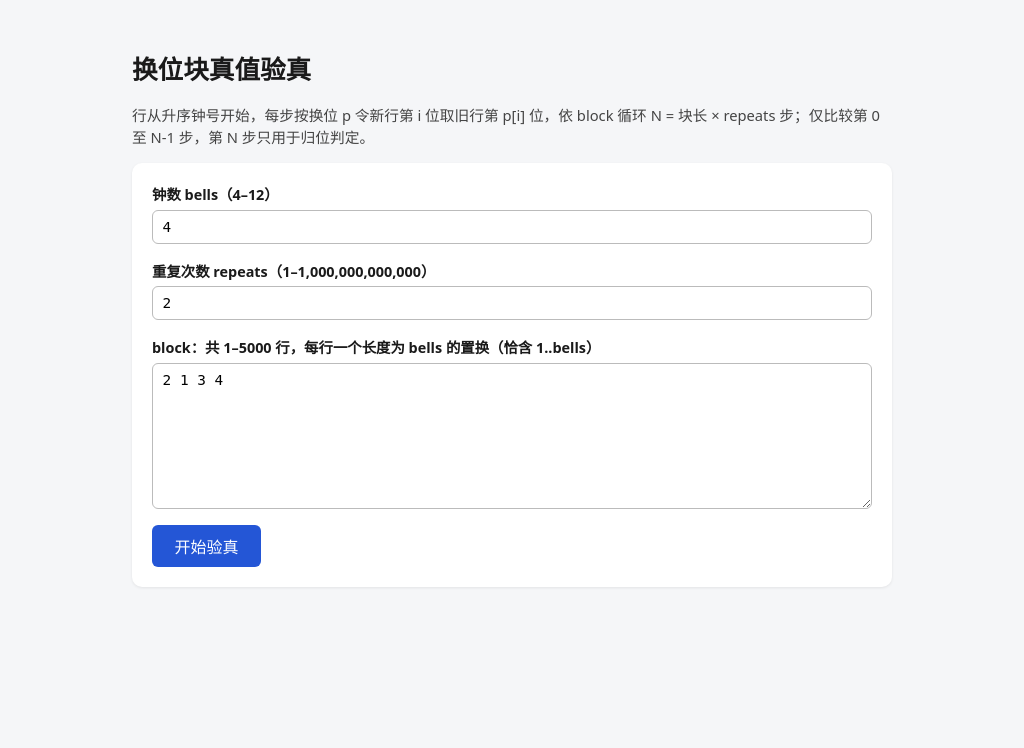
Test: App verification flow › a 422 API error clears the previous result and shows the located field
The width and height of the screenshot is (1024, 748).
Click the button "开始验真": (206, 546) [152, 525, 261, 566]
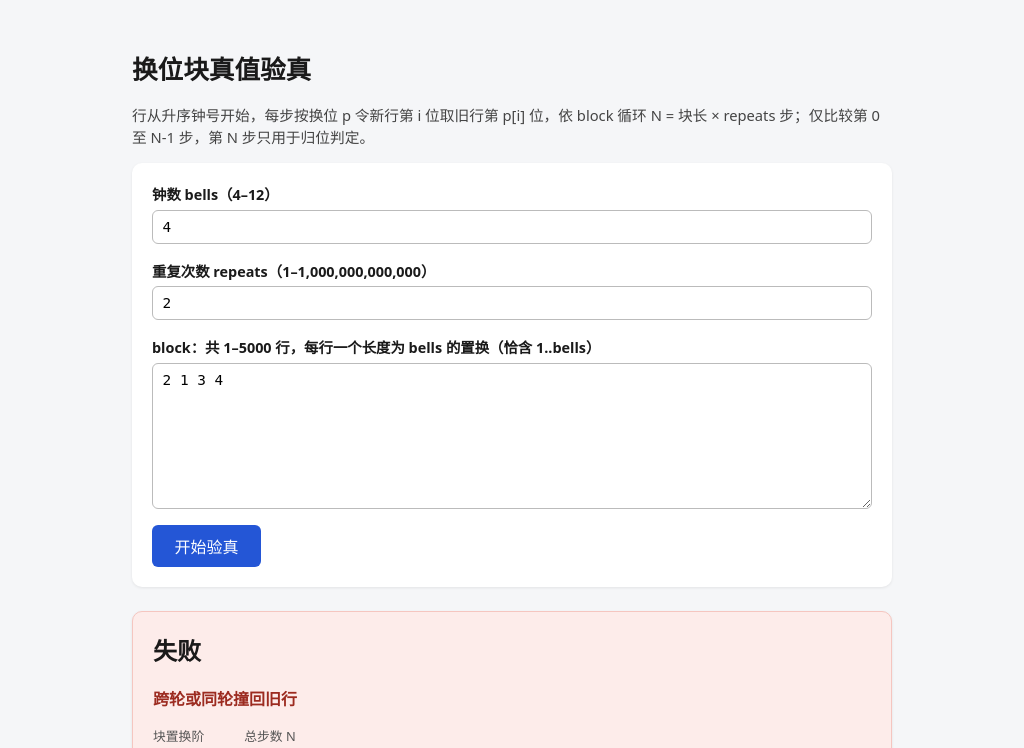
Click the button "开始验真": (206, 546) [152, 525, 261, 566]
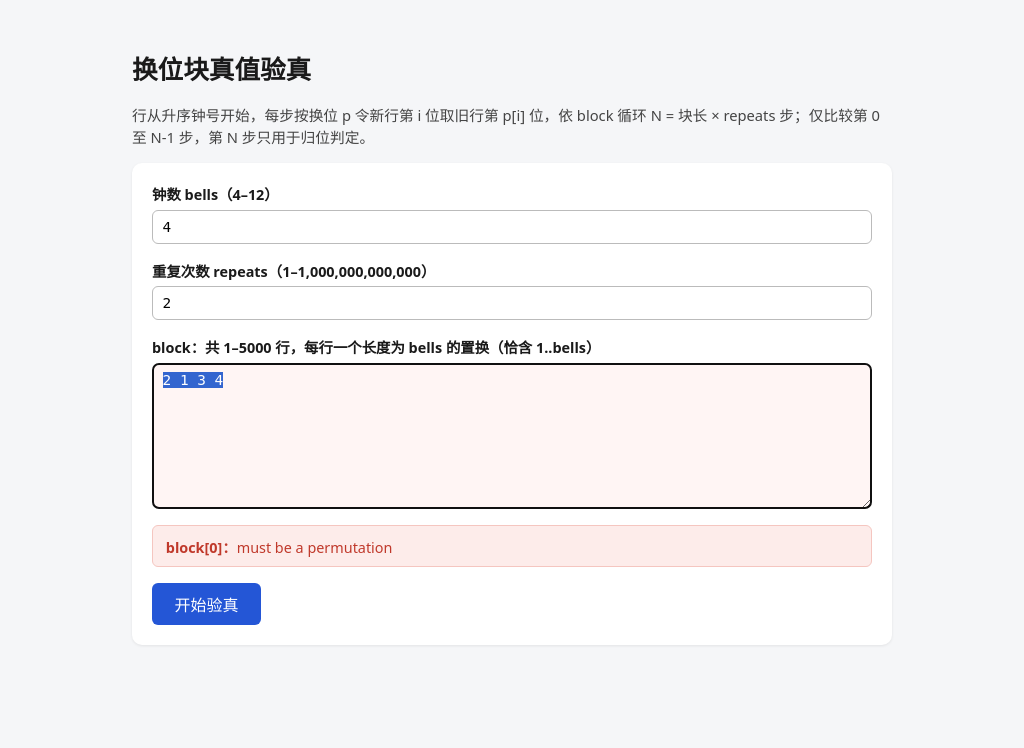
Now the message with test id "error" shows "block[0]", box [166, 538, 222, 556]
